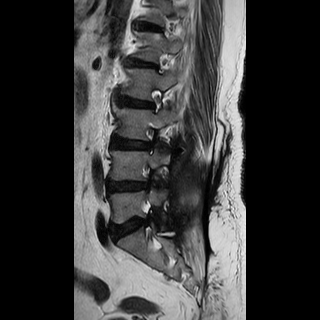LFS0: (140, 81, 169, 120)
